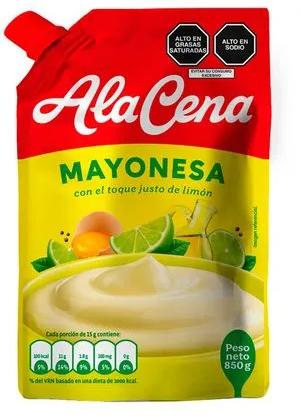brand: (25, 69, 267, 143)
net_weight: (222, 361, 253, 371)
product_name: (51, 149, 231, 185)
